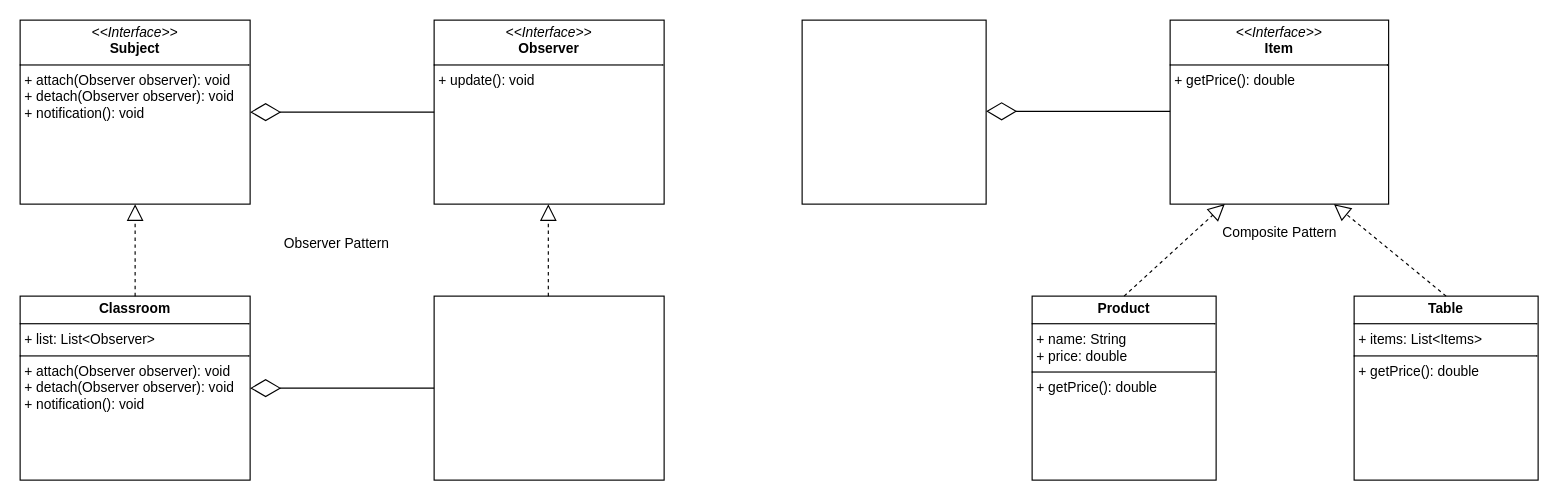
Some shapes in this 1558 by 500 pixel diagram are drawn without their labels. The shapes that lost their labels are listed below. From the top down, each one's box as (x1, y1, x2, y2) in pixels, then its label:
(801, 19, 986, 204): Income + items: List<Items> + calculateIncome(): double
(433, 295, 664, 480): Student + name: String + update(): void
